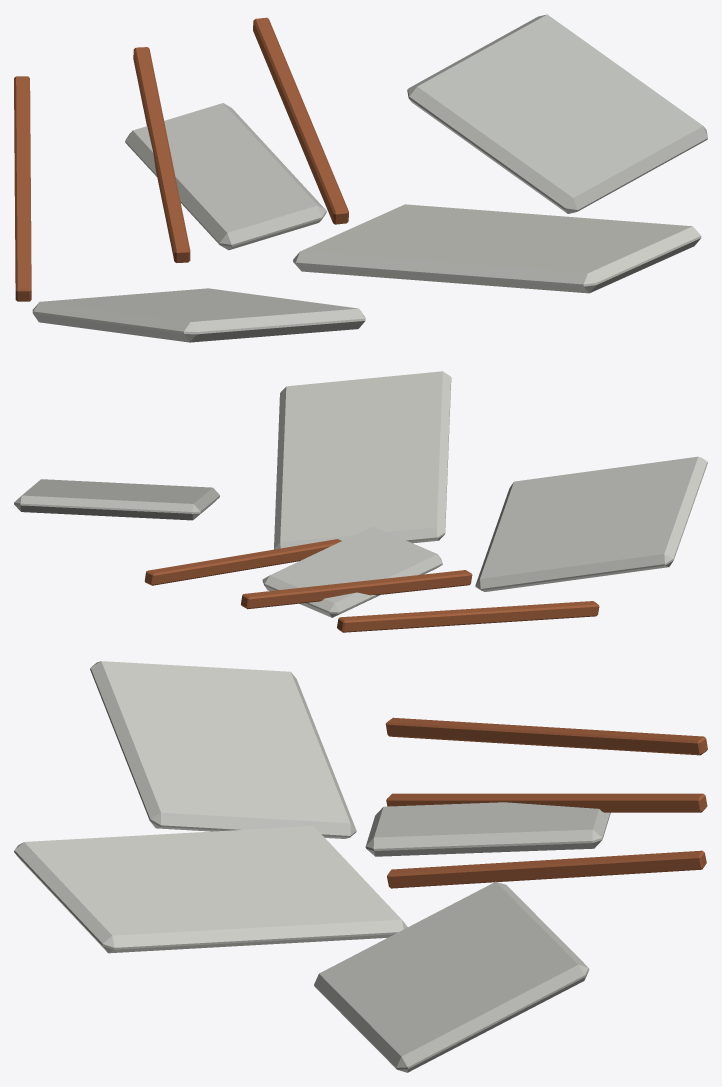
The model's file is Debris_Cluster_1.glb.
The picture shows the model from 3 angles, top to bottom: view 1: azimuth 30°, elevation 25°; view 2: azimuth 150°, elevation 25°; view 3: azimuth 270°, elevation 25°; orthographic projection. The views are drawn at different scales.
Parts seen in each view (by area): view 1: Debris_Cluster_1; view 2: Debris_Cluster_1; view 3: Debris_Cluster_1.
Boxes of the visible parts, <box> form: Debris_Cluster_1: <box>14,14,707,342</box>; Debris_Cluster_1: <box>14,371,707,632</box>; Debris_Cluster_1: <box>14,661,707,1072</box>.
Size of the model in its own units: 1.85 by 0.2704 by 1.54.
